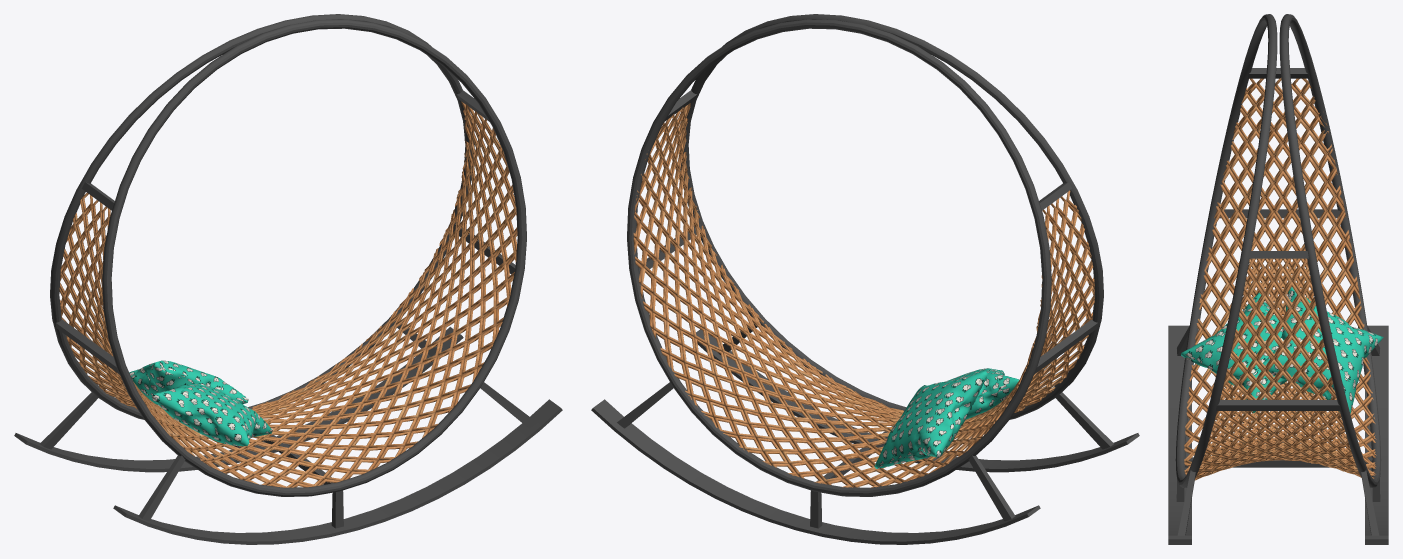
The model's file is swing_chair.glb.
3 views of the same model, side by side, from view 1: azimuth 30°, elevation 25°; view 2: azimuth 150°, elevation 25°; view 3: azimuth 270°, elevation 25° (orthographic).
Visible parts, largest first — view 1: wood, metal_ring, cushion; view 2: wood, metal_ring, cushion; view 3: wood, metal_ring, cushion.
Part boxes in pixels (x1,y1,x2,y2): wood: [59, 101, 517, 487]; metal_ring: [14, 14, 562, 544]; cushion: [113, 360, 272, 446]; wood: [633, 103, 1094, 487]; metal_ring: [591, 14, 1139, 544]; cushion: [874, 368, 1019, 468]; wood: [1184, 78, 1376, 480]; metal_ring: [1168, 14, 1388, 544]; cushion: [1181, 287, 1383, 413].
Size of the model in its own units: 1.95 by 2 by 0.8542.
3 materials, 2 textured.
